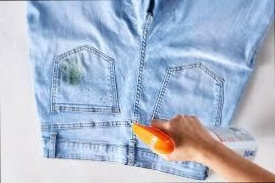earth: (61, 64, 84, 84)
